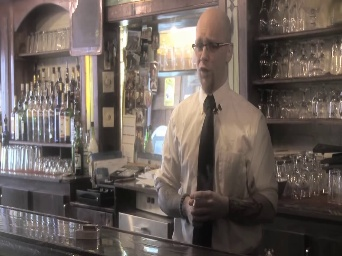smoke: (191, 195, 196, 208)
